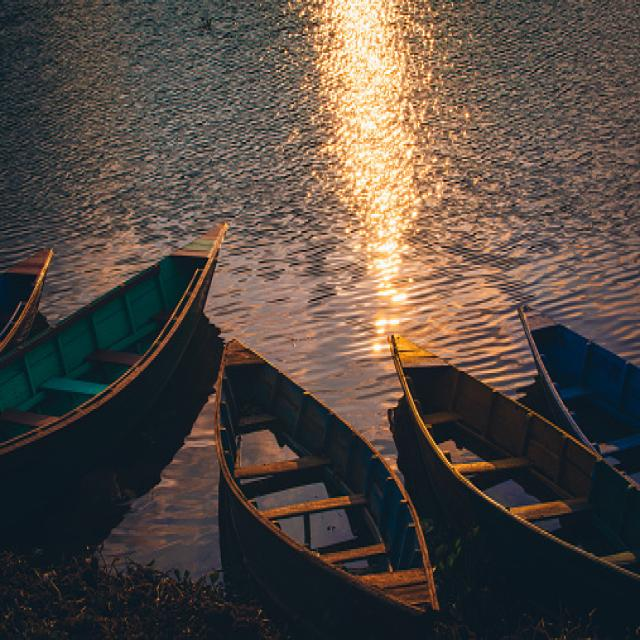Boat: (0, 187, 236, 499), (388, 319, 558, 638), (216, 346, 389, 640), (508, 265, 640, 494), (0, 131, 98, 401)
